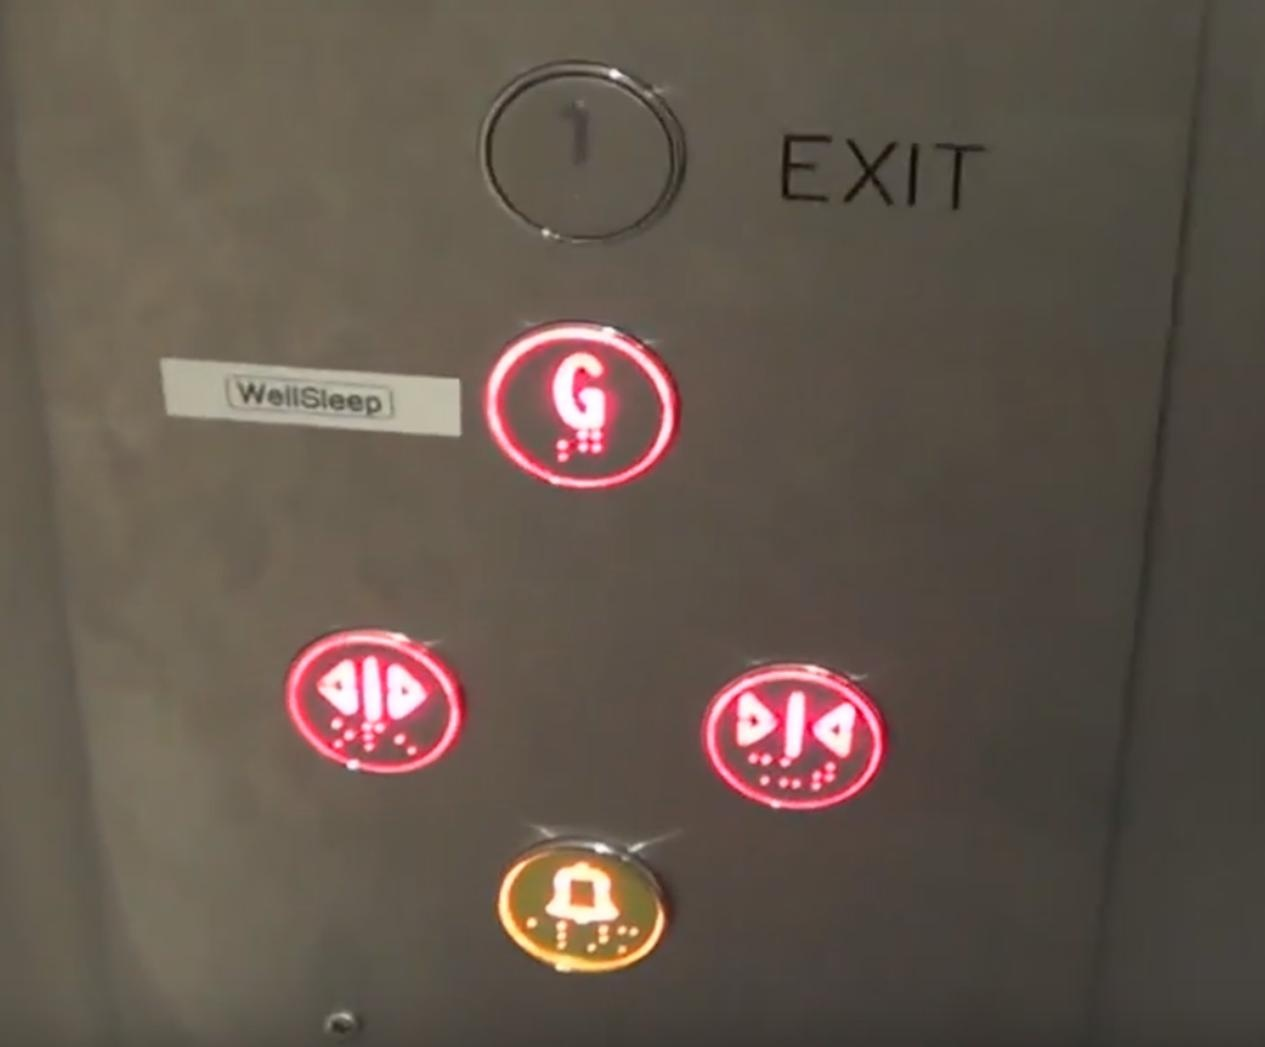1: (476, 61, 688, 247)
G: (482, 317, 685, 491)
alarm: (493, 834, 673, 975)
close: (701, 661, 888, 812)
open: (285, 625, 465, 777)
